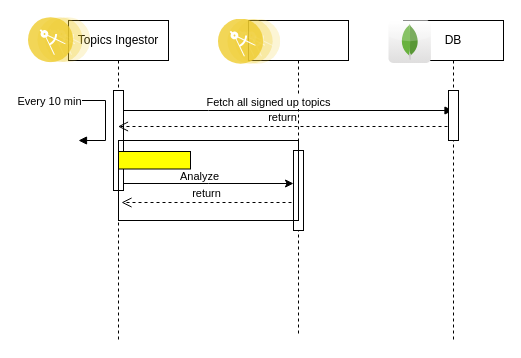
This 521x358 diagram has some shape labels left out. The shapes that lost their labels are listed below. From the top down, each one's box as (x1, y1, x2, y2) in pixels, then its label:
(118, 150, 190, 169): For each topic
(248, 20, 348, 336): Topics Core
